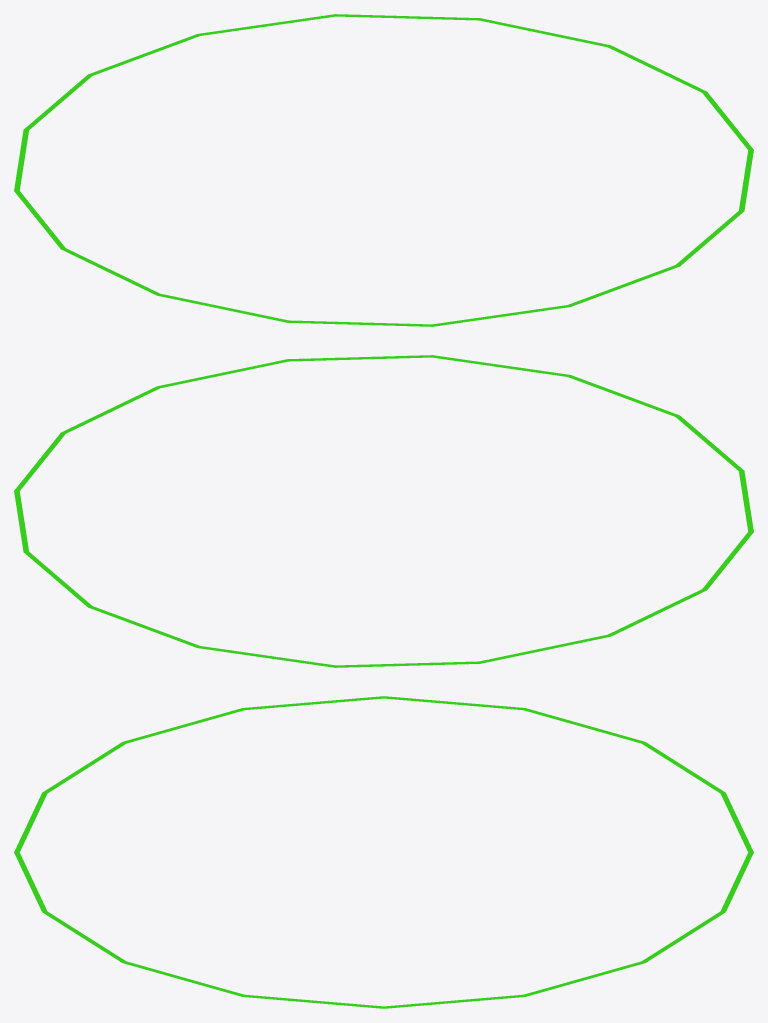
Rendered from base_border.glb.
The picture shows the model from 3 angles, top to bottom: view 1: azimuth 30°, elevation 25°; view 2: azimuth 150°, elevation 25°; view 3: azimuth 270°, elevation 25°; orthographic projection.
Visible parts, largest first — view 1: Cylinder; view 2: Cylinder; view 3: Cylinder.
Part boxes in pixels (x1,y1,x2,y2): Cylinder: [14, 14, 753, 326]; Cylinder: [14, 355, 753, 667]; Cylinder: [14, 696, 753, 1008].
Size of the model in its own units: 32 by 0 by 32.
